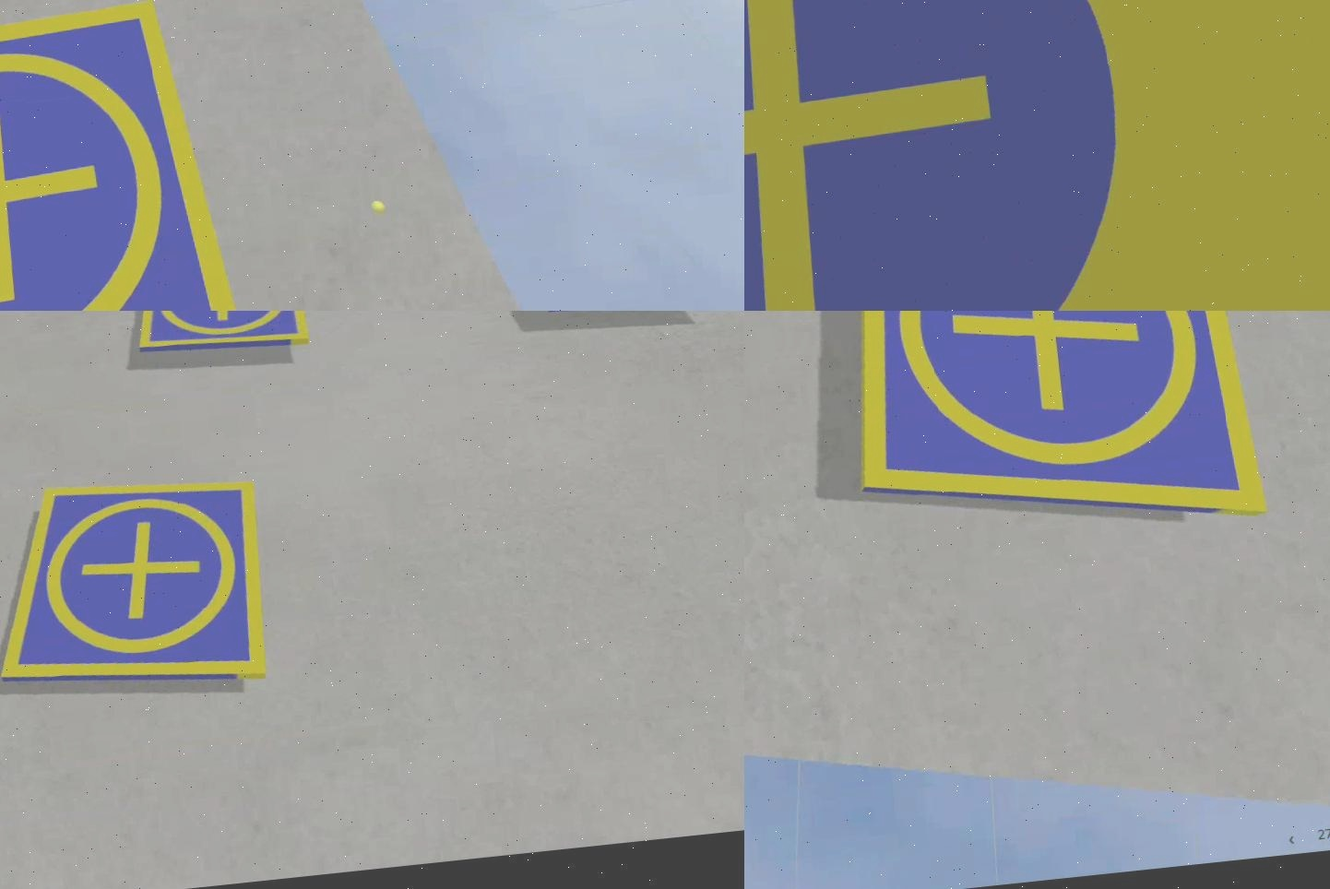large_base: (745, 1, 1330, 312)
small_base: (830, 312, 1276, 558), (1, 1, 261, 312), (1, 461, 282, 717), (132, 312, 315, 365)
